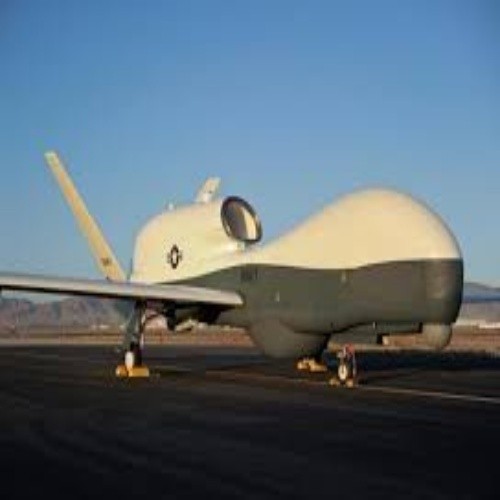uav401: (4, 149, 464, 388)
